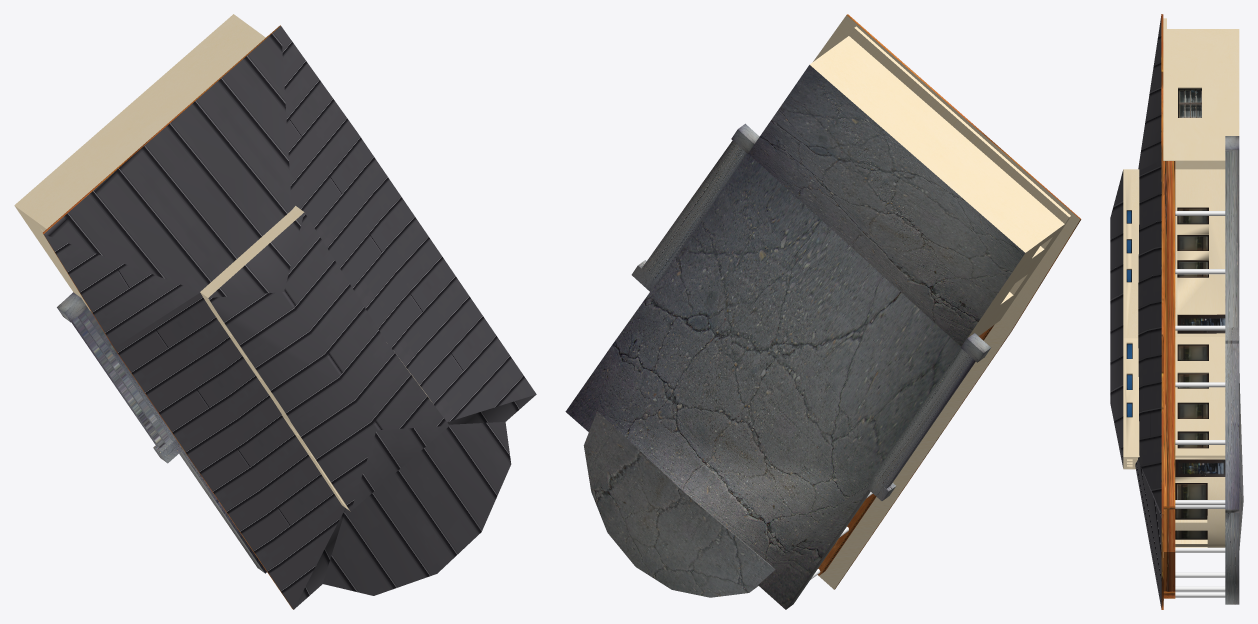
Rendered from Kaarli_pst_2.obj.
3 views of the same model, side by side, from view 1: azimuth 30°, elevation 25°; view 2: azimuth 150°, elevation 25°; view 3: azimuth 270°, elevation 25° (orthographic). The views are drawn at different scales.
Visible parts, largest first — view 1: Box04; view 2: Box04; view 3: Box04.
Part boxes in pixels (left/top/right/bottom): Box04: left=14, top=14, right=536, bottom=609; Box04: left=565, top=14, right=1081, bottom=609; Box04: left=1110, top=14, right=1243, bottom=609.
Size of the model in its own units: 26.42 by 30.36 by 6.88.
